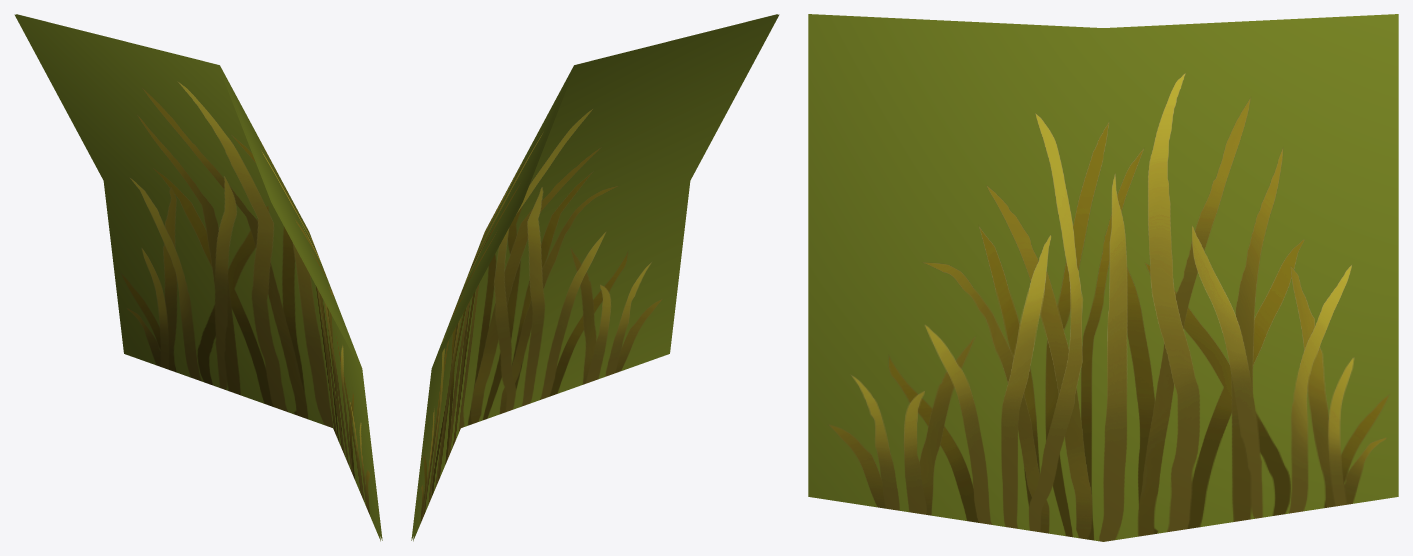
File: grass_02.fbx
3 views of the same model, side by side, from view 1: azimuth 30°, elevation 25°; view 2: azimuth 150°, elevation 25°; view 3: azimuth 270°, elevation 25° (orthographic). The views are drawn at different scales.
Visible parts, largest first — view 1: grass_02; view 2: grass_02; view 3: grass_02.
Boxes of the visible parts, bbox=[...] form: grass_02: bbox=[14, 14, 382, 541]; grass_02: bbox=[411, 14, 779, 541]; grass_02: bbox=[808, 14, 1398, 541].
Size of the model in its own units: 1.06 by 2.06 by 2.46.
